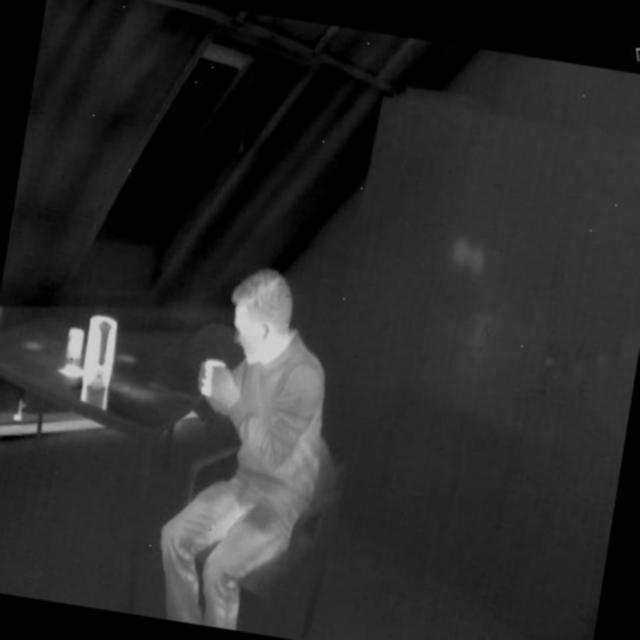person: (145, 253, 364, 640)
